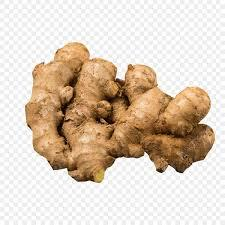non-mango: (24, 41, 215, 183)
